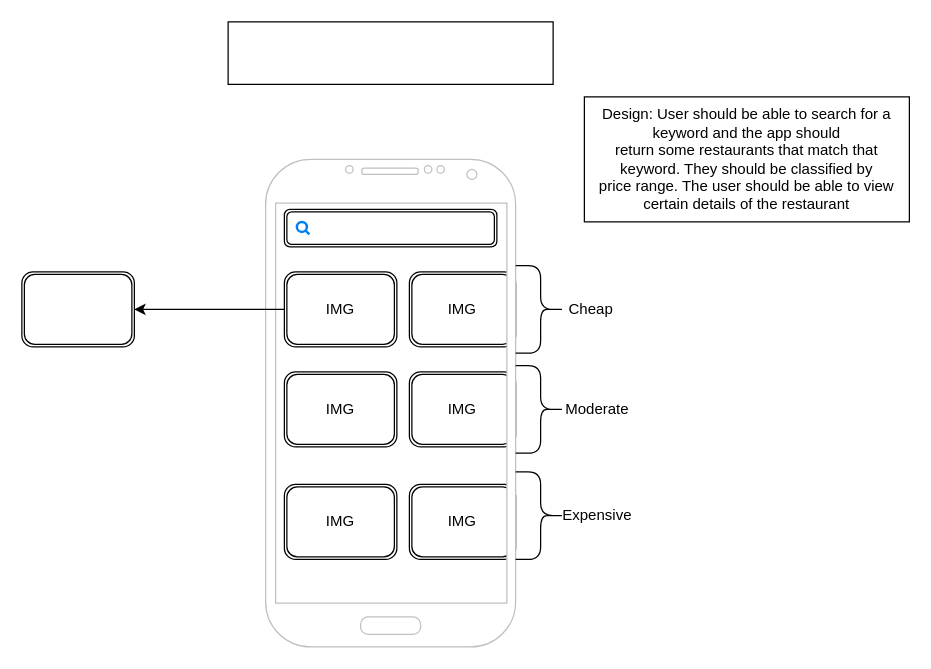
The diagram is 931 pixels wide and 669 high, and some of its shapes have lost their labels. The shapes that lost their labels are listed below. From the top down, each one's centre as x and y in pixels, then its label:
the point at 390,52: Search Screen
the point at 390,227: Search
the point at 77,309: IMG Reviews | Rating
